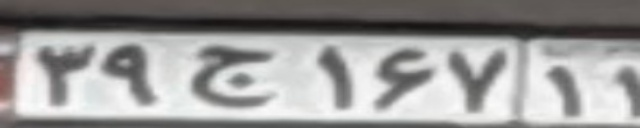1: (317, 43, 350, 108), (546, 66, 581, 116), (611, 67, 639, 115)
3: (37, 42, 92, 106)
6: (370, 47, 433, 108)
7: (445, 46, 499, 112)
9: (98, 41, 154, 104)
jim: (186, 44, 267, 107)
